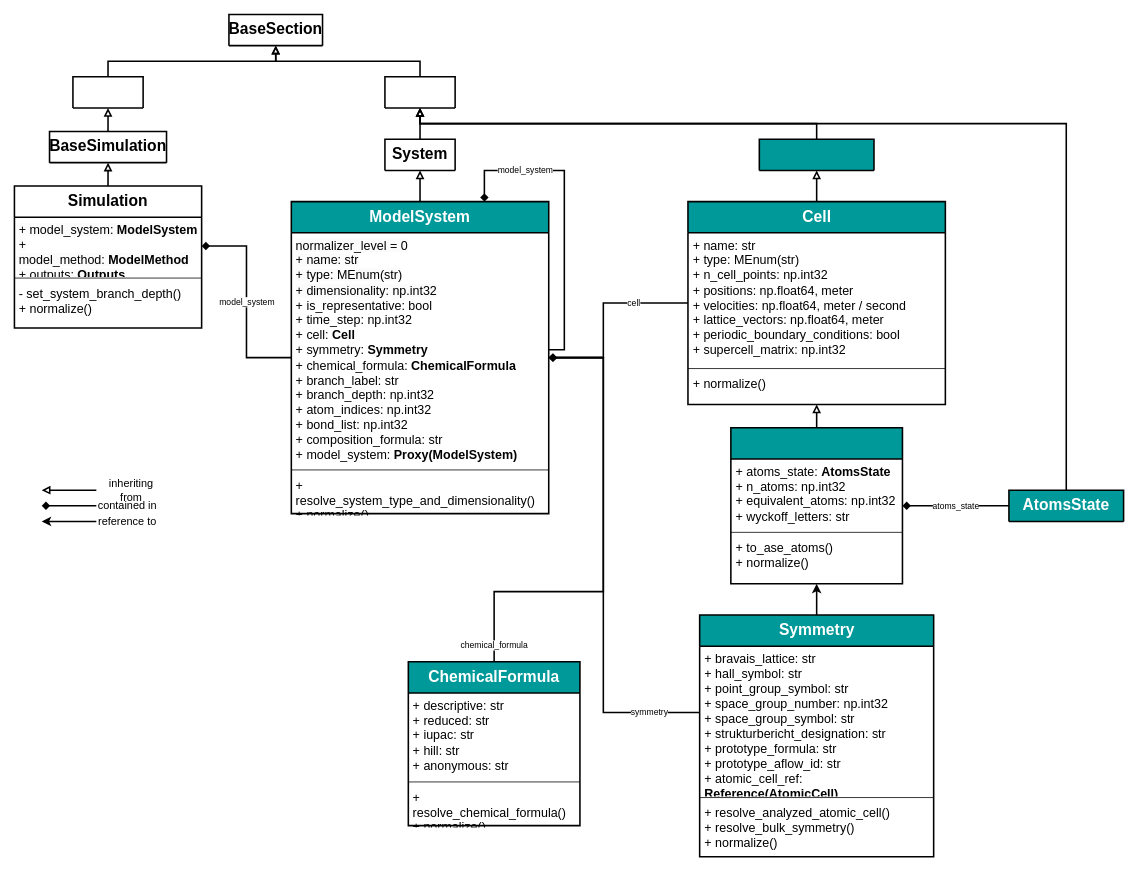
Image size: 1137x872. Some labels were removed from this diagram. The shapes that lost their labels are listed below. From the top down, each one's box as (x1, y1, x2, y2) in pixels, then its label:
(72, 76, 144, 108): Activity
(384, 76, 456, 108): Entity
(758, 138, 874, 171): GeometricSpace
(730, 427, 903, 584): AtomicCell
